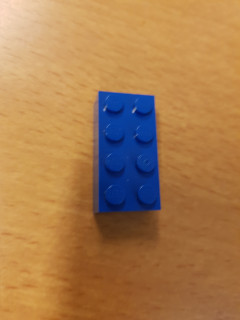2x4 blue: (88, 84, 166, 218)
